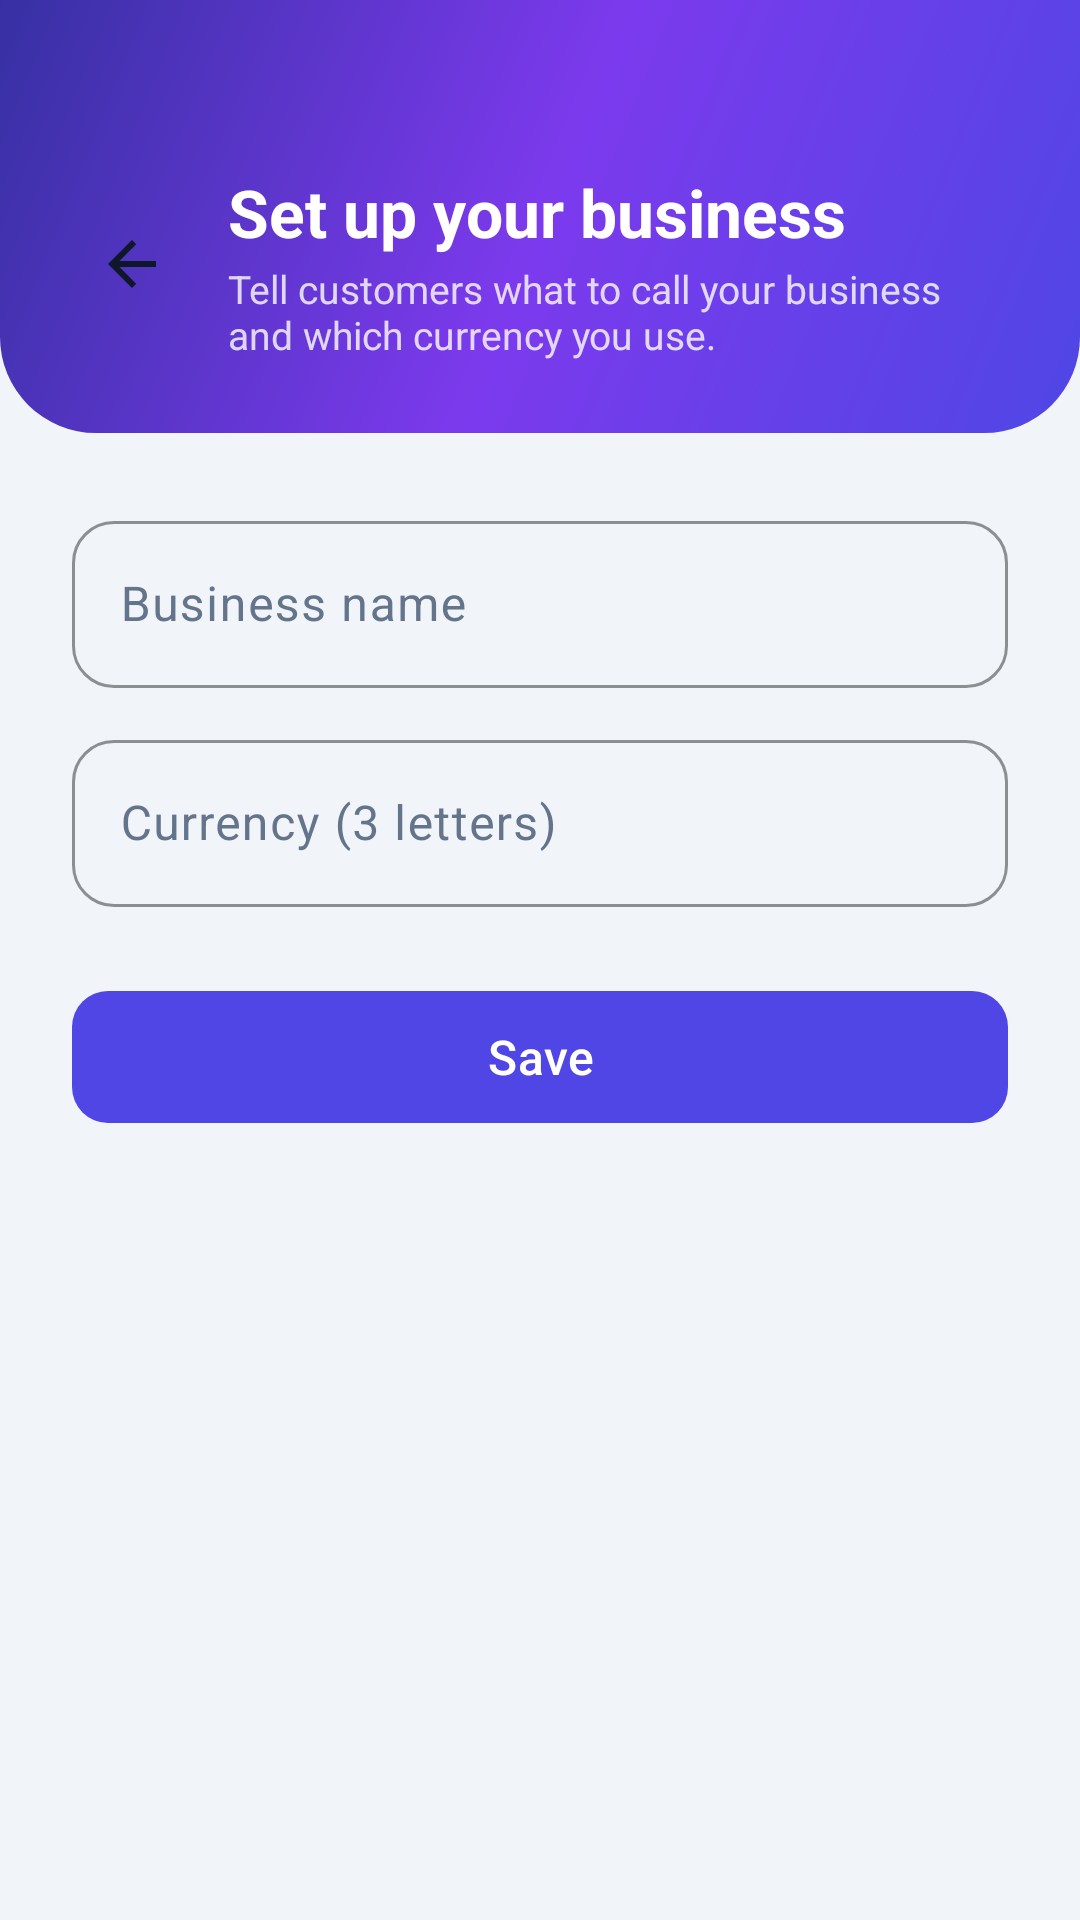

Where icons sit on this 1080px x 1920px app screen, as (x1, y1, x2, y2):
Back: (108, 240, 156, 288)
